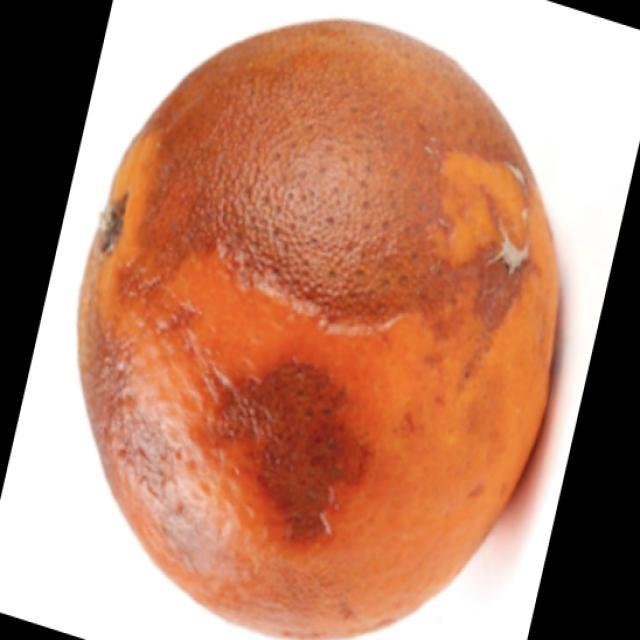sangat-busuk: (79, 21, 558, 635)
